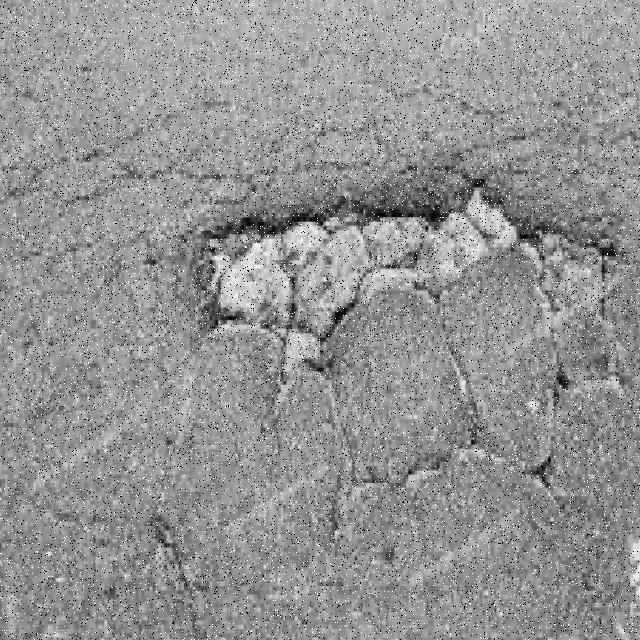pothole: (212, 196, 534, 380)
